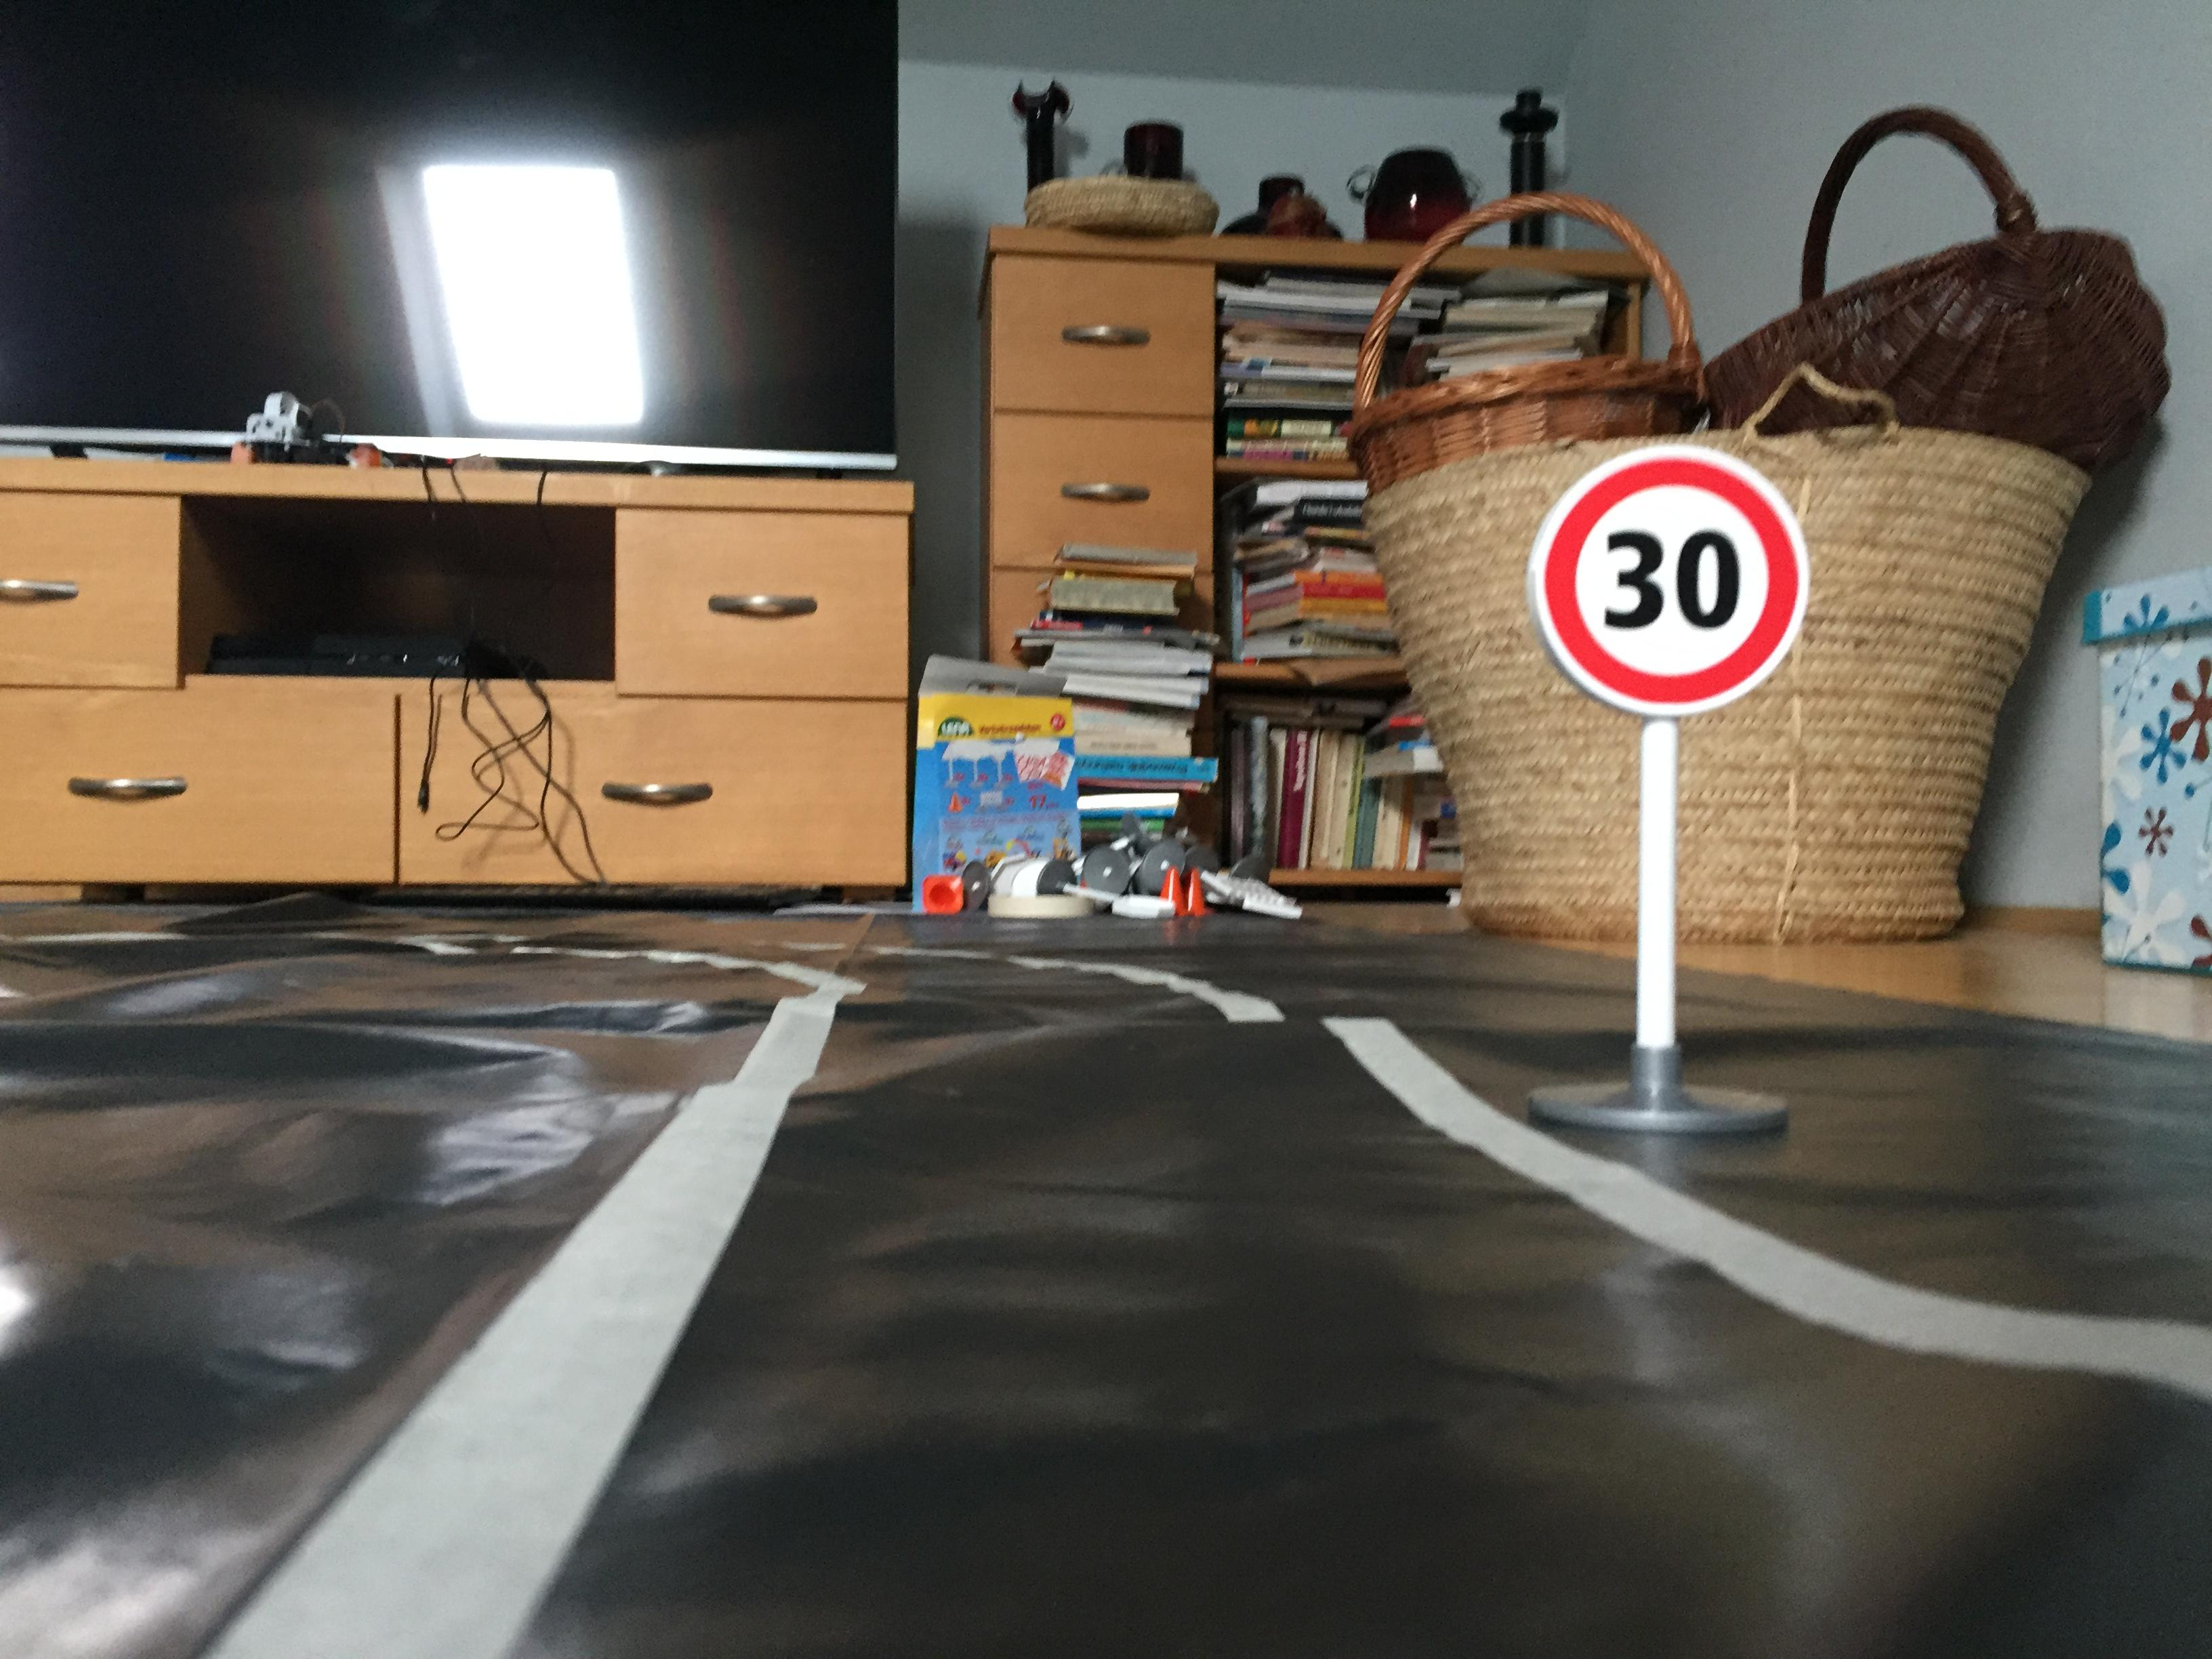speed: (1514, 446, 1829, 730)
